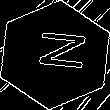N_W: (25, 33, 85, 77)
